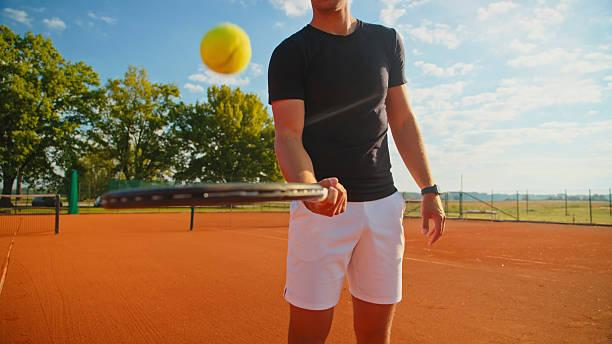ball_tennis: (200, 23, 252, 76)
